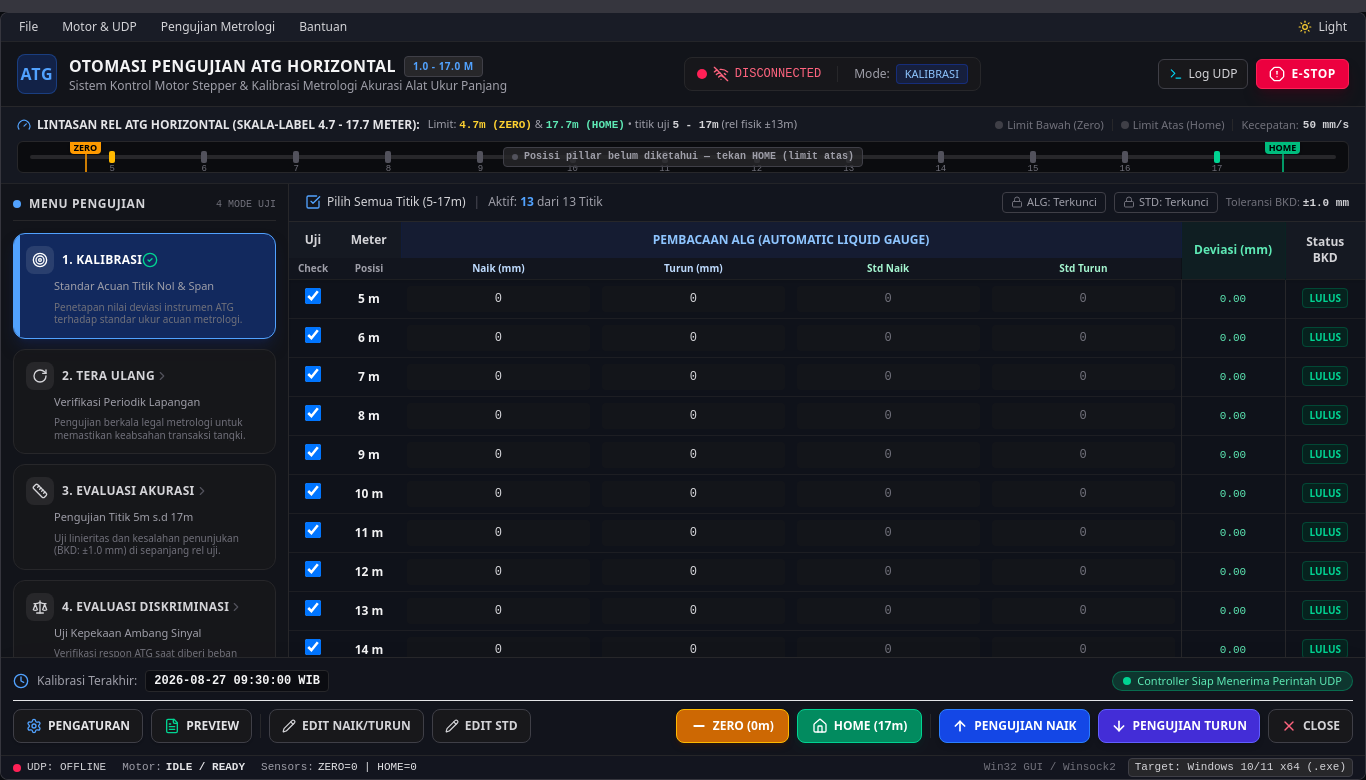
Test: App — auto-reconnect › mode KALIBRASI: semua titik otomatis tercentang saat dipilih
Expected: the checkbox with id "chk-point-5" is checked, [305, 288, 321, 304]
Pindah ke TERA_ULANG → semua titik dikosongkan
Click the button with id "btn-menu-tera-ulang": (144, 401) [13, 348, 276, 454]
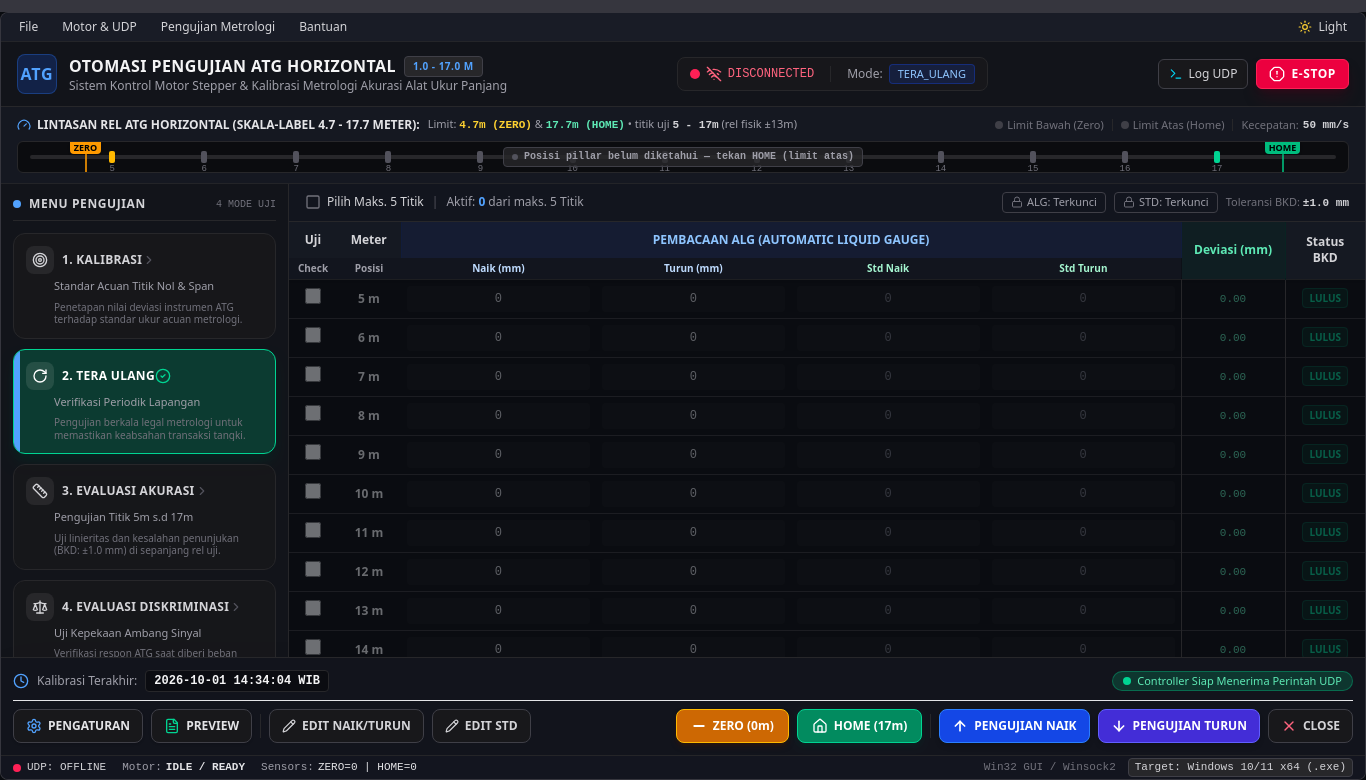
Expected: the checkbox with id "chk-point-5" is not checked, [305, 288, 321, 304]
Kembali ke KALIBRASI → semua titik harus tercentang lagi otomatis
Click the button with id "btn-menu-kalibrasi": (144, 286) [13, 233, 276, 338]
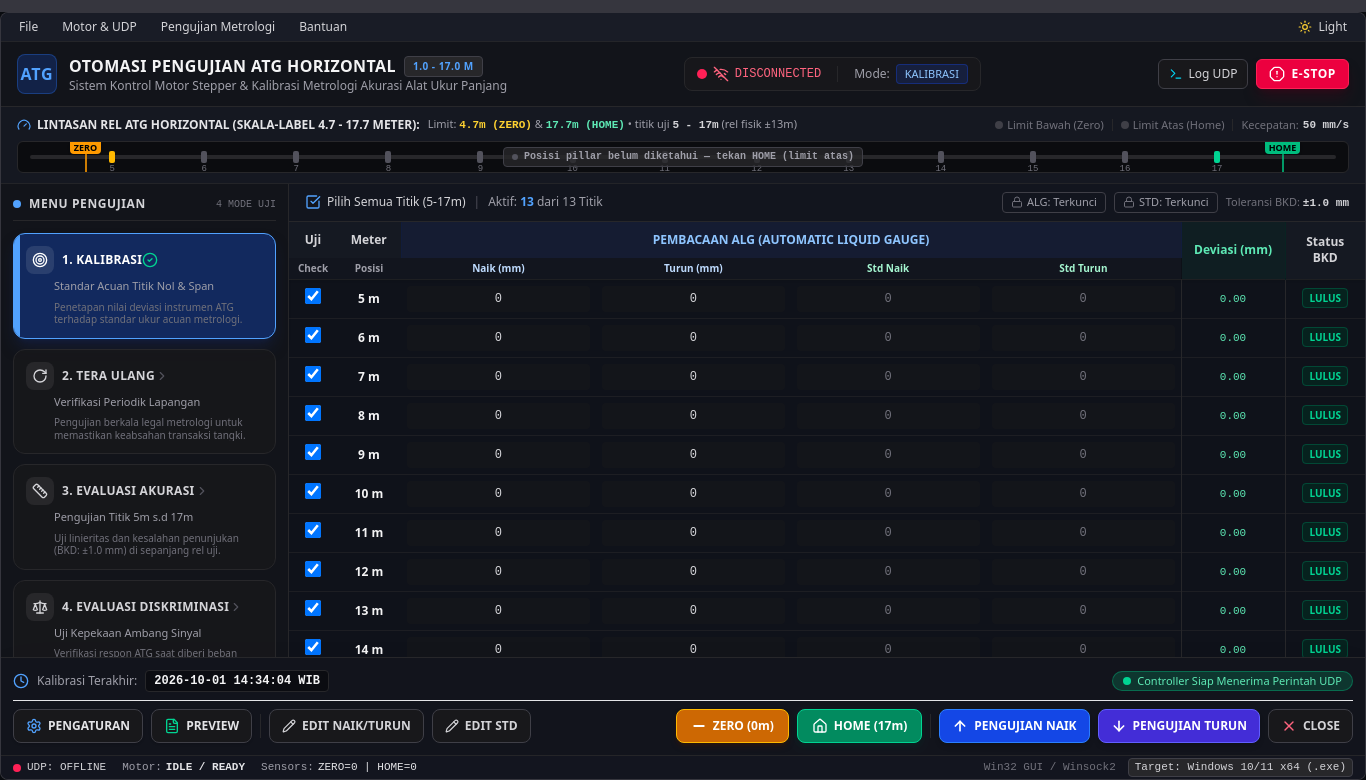
Expected: the checkbox with id "chk-point-5" is checked, [305, 288, 321, 304]
Expected: the checkbox with id "chk-point-14" is checked, [305, 640, 321, 656]
